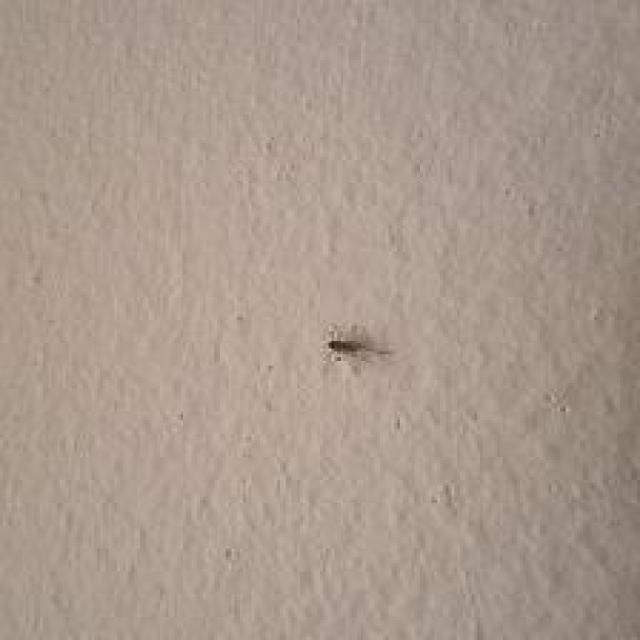Culex: (326, 336, 391, 361)
